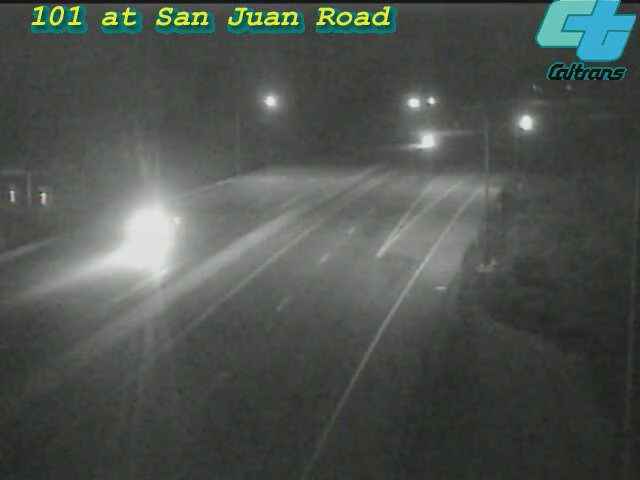vehicle: (101, 194, 181, 274), (401, 116, 451, 166), (497, 98, 547, 148)
